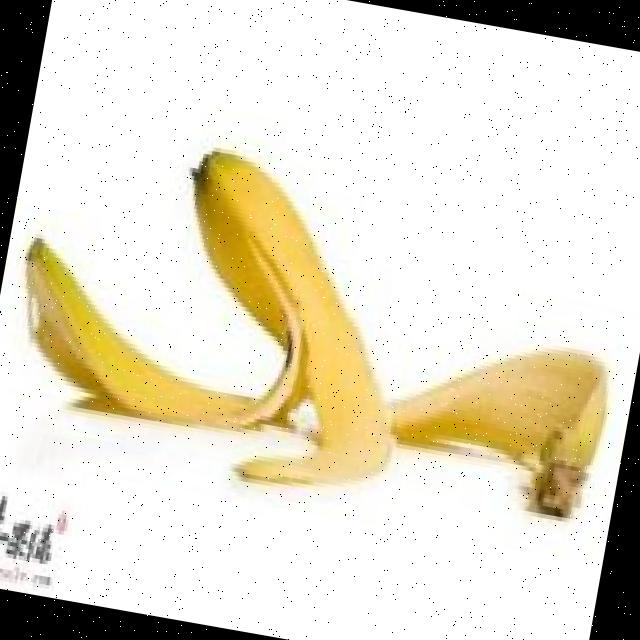banana-peel: (0, 114, 639, 540), (138, 141, 440, 504), (0, 230, 314, 444)
